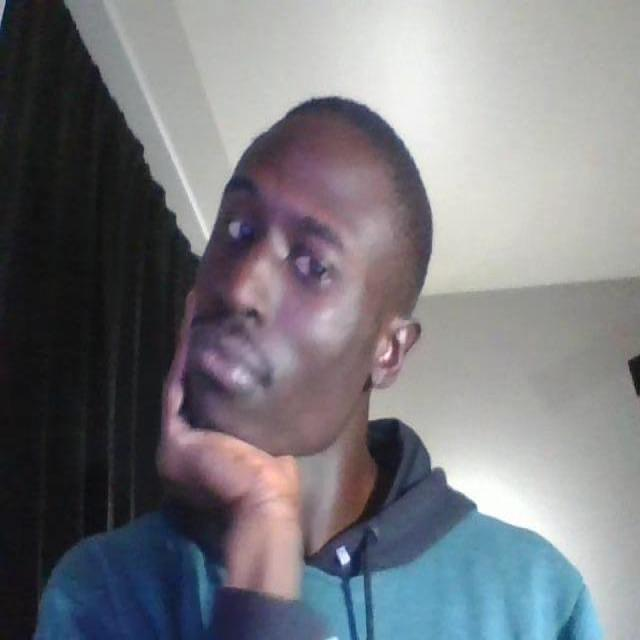no-helmet: (184, 145, 388, 456)
